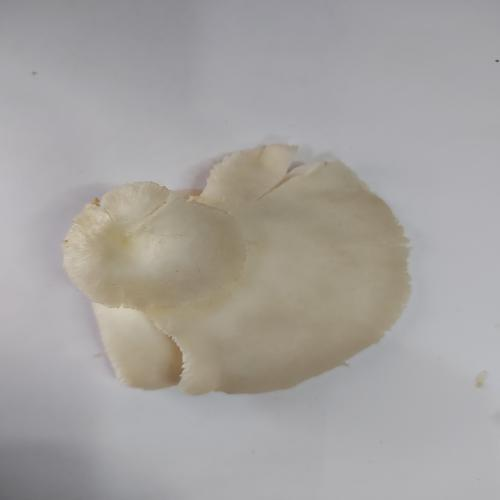Oyster Mushroom: (61, 142, 414, 396)
